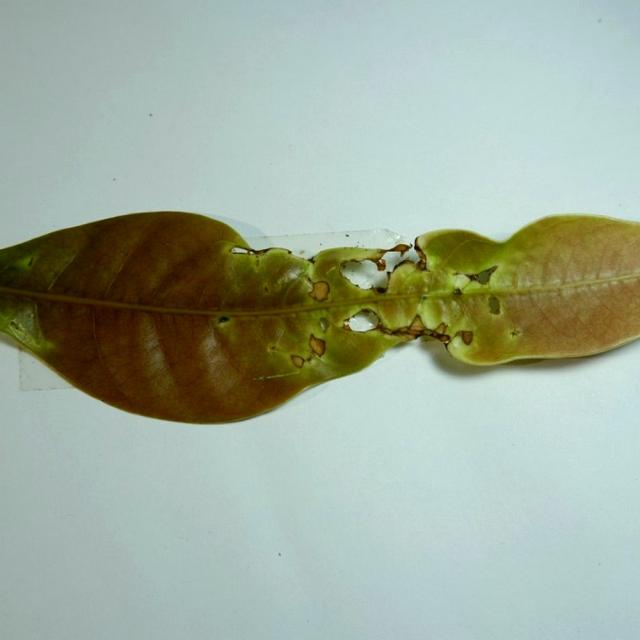Anthracnose: (449, 264, 498, 302), (341, 257, 391, 291), (288, 333, 327, 370), (376, 249, 416, 284), (377, 249, 422, 274), (7, 311, 39, 344), (0, 255, 34, 286), (344, 309, 382, 332), (0, 304, 20, 337), (307, 280, 331, 303), (485, 294, 506, 319), (308, 334, 326, 357), (413, 243, 427, 269), (453, 273, 473, 291), (407, 315, 425, 334), (487, 294, 502, 316), (476, 269, 492, 285), (291, 354, 307, 369), (461, 330, 474, 345), (433, 322, 447, 335), (392, 244, 411, 253), (318, 318, 330, 332), (216, 314, 231, 325), (230, 247, 253, 254), (375, 258, 387, 271), (253, 248, 269, 256), (509, 328, 522, 337), (438, 334, 450, 343), (374, 286, 387, 294), (342, 321, 352, 331), (10, 321, 20, 329), (307, 256, 316, 264), (453, 288, 463, 295), (28, 256, 35, 266), (419, 295, 428, 302), (269, 345, 277, 351), (256, 257, 261, 265), (264, 287, 269, 293), (345, 233, 349, 237)
Mango: (0, 212, 639, 427)
